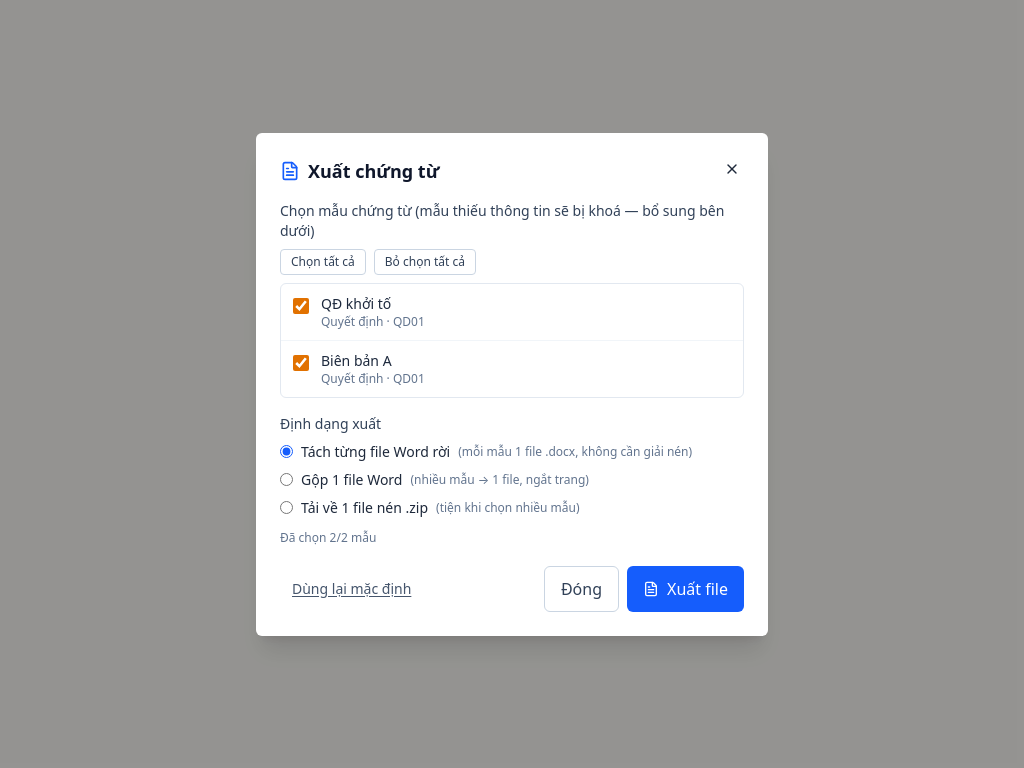
DynamicExportDocumentsModal › chế độ xuất › tách: 1 mẫu lỗi → vẫn tải mẫu còn lại + báo rõ mẫu hỏng, KHÔNG đóng modal
Expected: the checkbox with test id "dyn-export-checkbox-t1" is shown, [293,298,309,314]
Click the button with test id "dyn-export-confirm" at (686, 588), box [627,566,744,612]
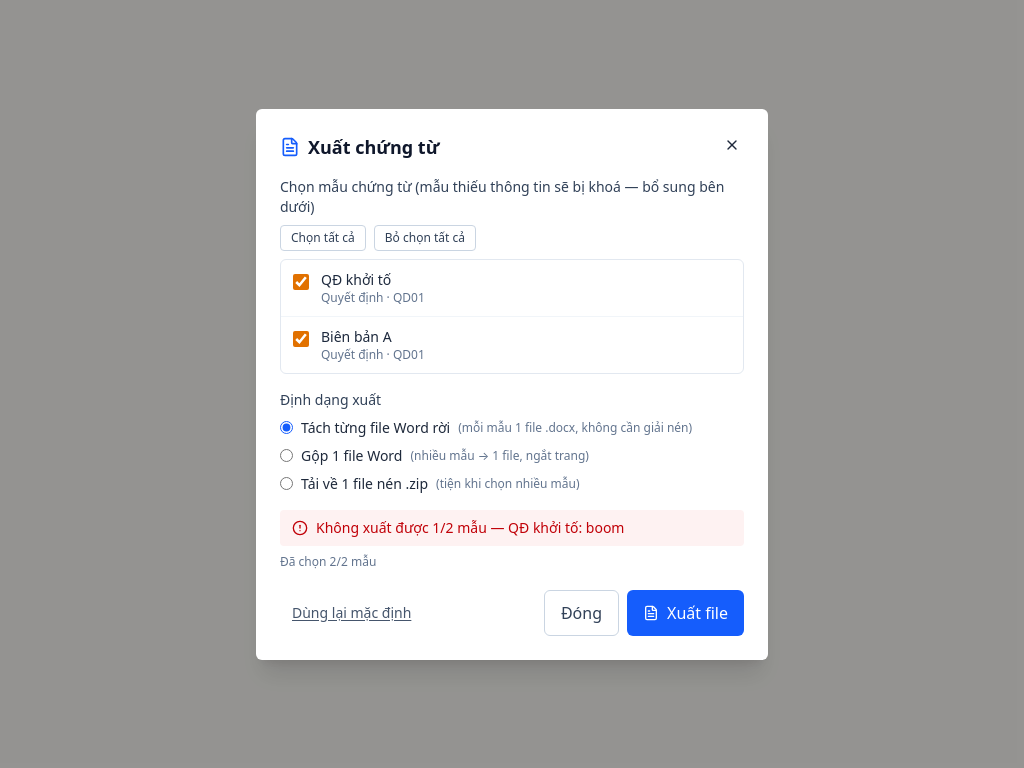
Result: the message with test id "dyn-export-error" shows "QĐ khởi tố" at [316,518,624,536]
